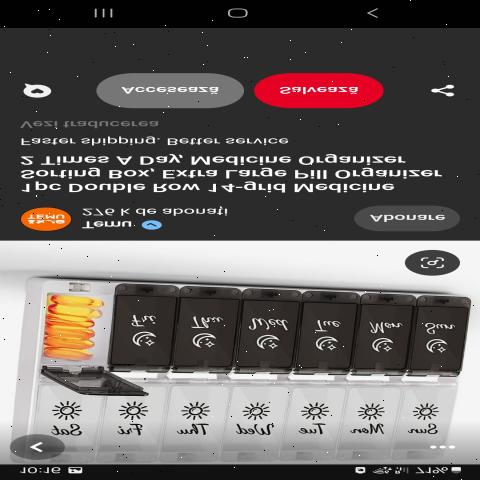PillBox: (33, 276, 480, 397)
